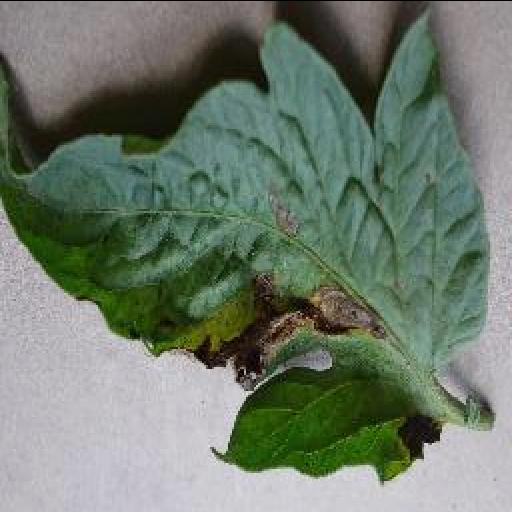disease_tomato: (0, 2, 490, 480)
